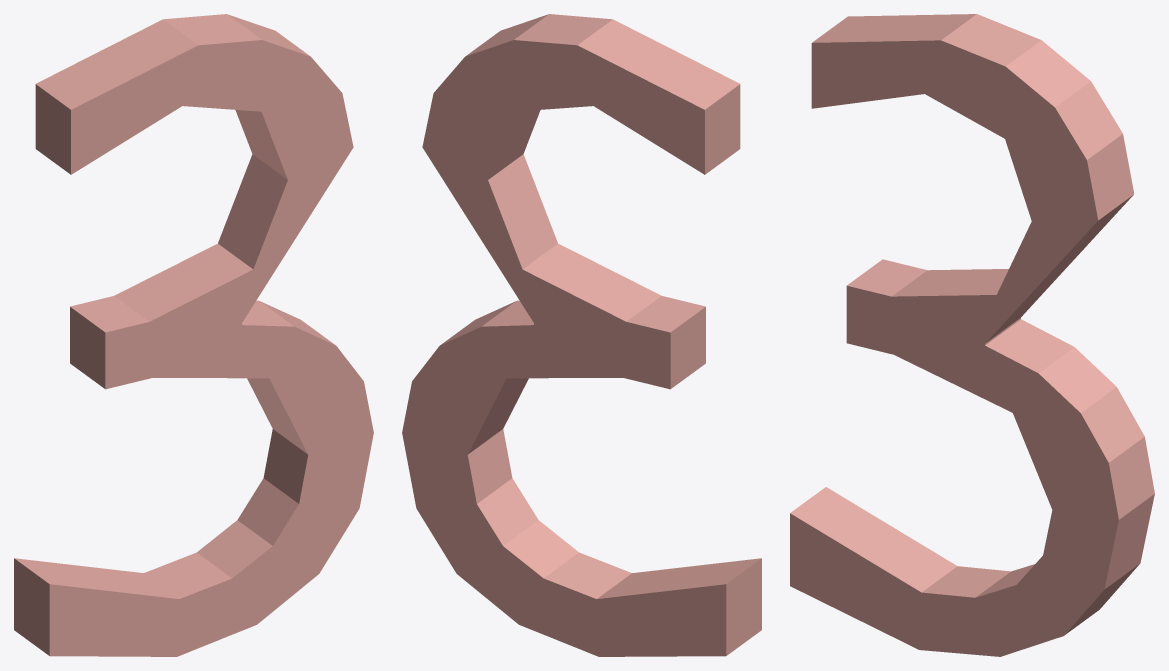
Rendered from tsifa2.fbx.
3 views of the same model, side by side, from view 1: azimuth 30°, elevation 25°; view 2: azimuth 150°, elevation 25°; view 3: azimuth 330°, elevation 25° (orthographic).
Visible parts, largest first — view 1: Extrude_5; view 2: Extrude_5; view 3: Extrude_5.
Boxes of the visible parts, bbox=[...] form: Extrude_5: bbox=[14, 14, 373, 656]; Extrude_5: bbox=[402, 14, 761, 656]; Extrude_5: bbox=[790, 14, 1154, 656].
Size of the model in its own units: 5.27 by 9.41 by 1.
